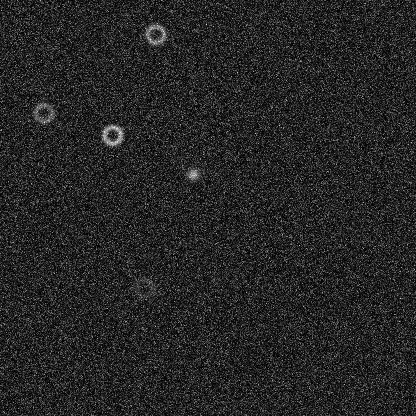Ring: (31, 100, 55, 124), (143, 22, 167, 46), (132, 275, 156, 299), (100, 123, 124, 147)
Spot: (184, 166, 200, 182)
